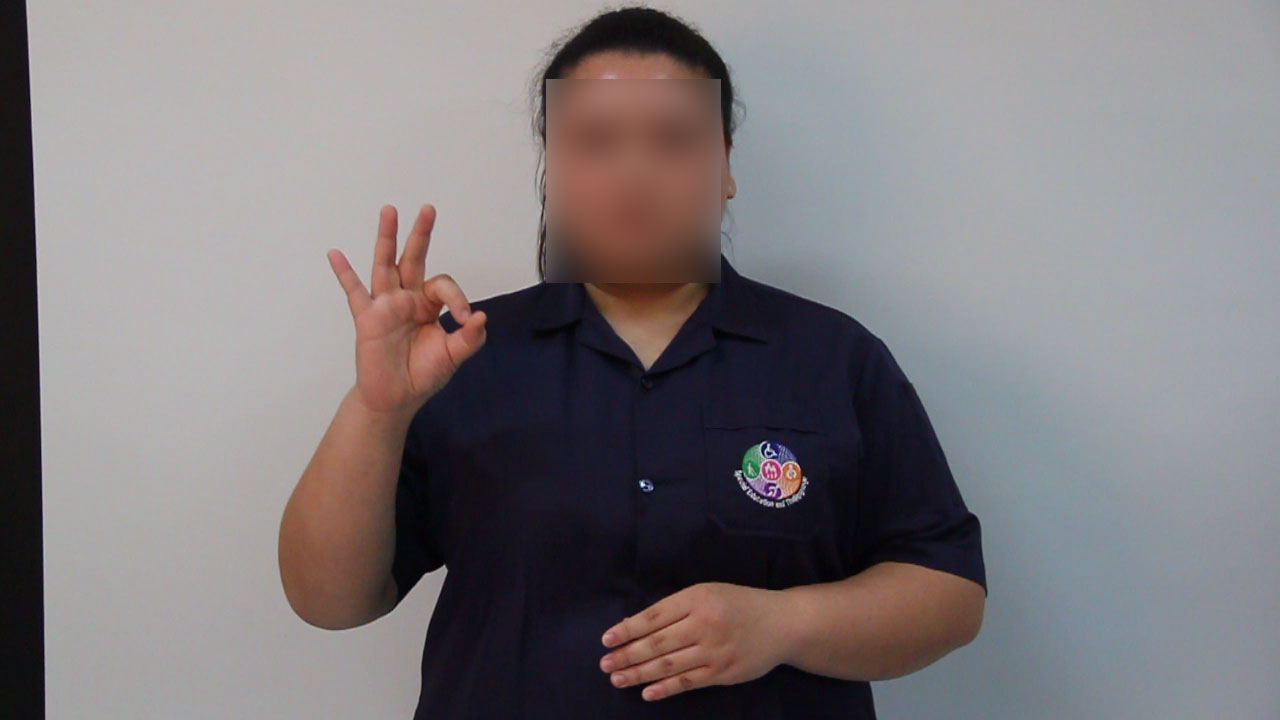for: (318, 190, 495, 423)
